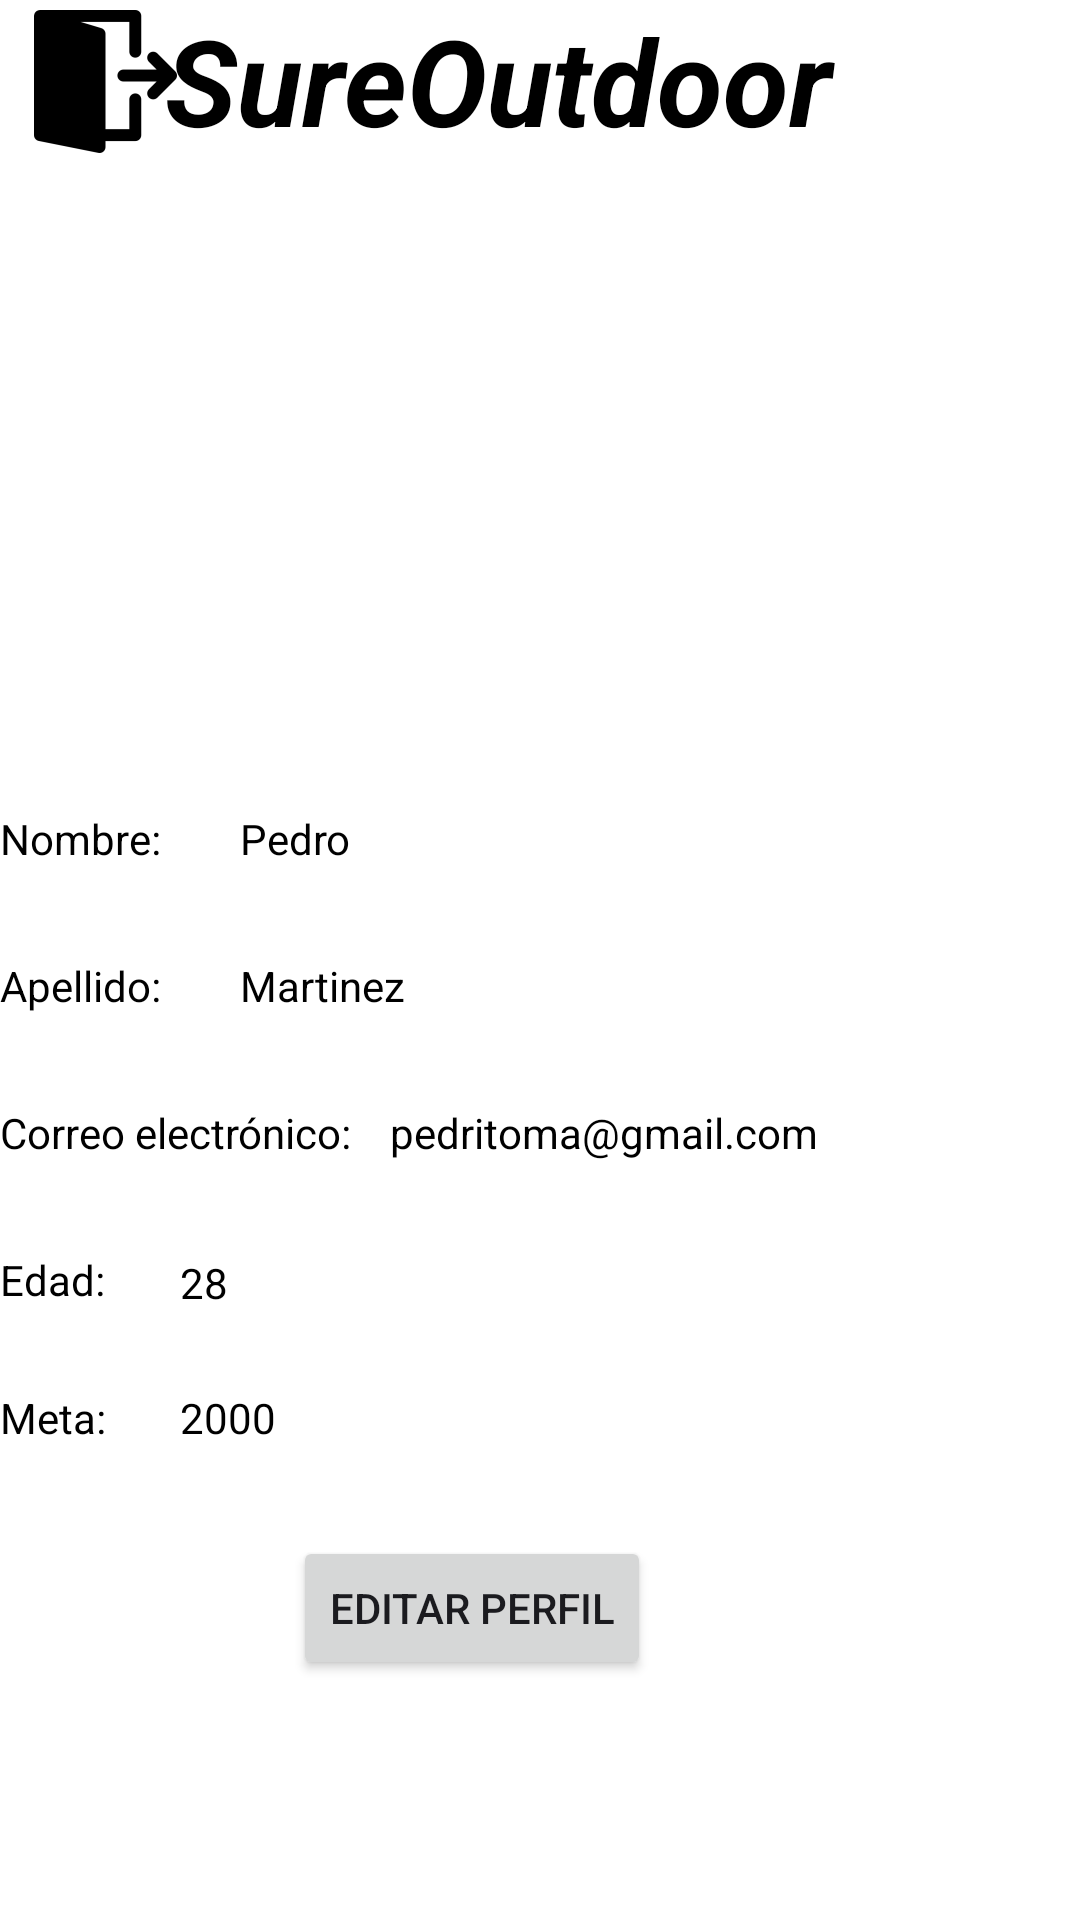

Named icons in this screenshot (1080px×1920px) and their centers, [x,y]:
Vuelve: [88,81]
